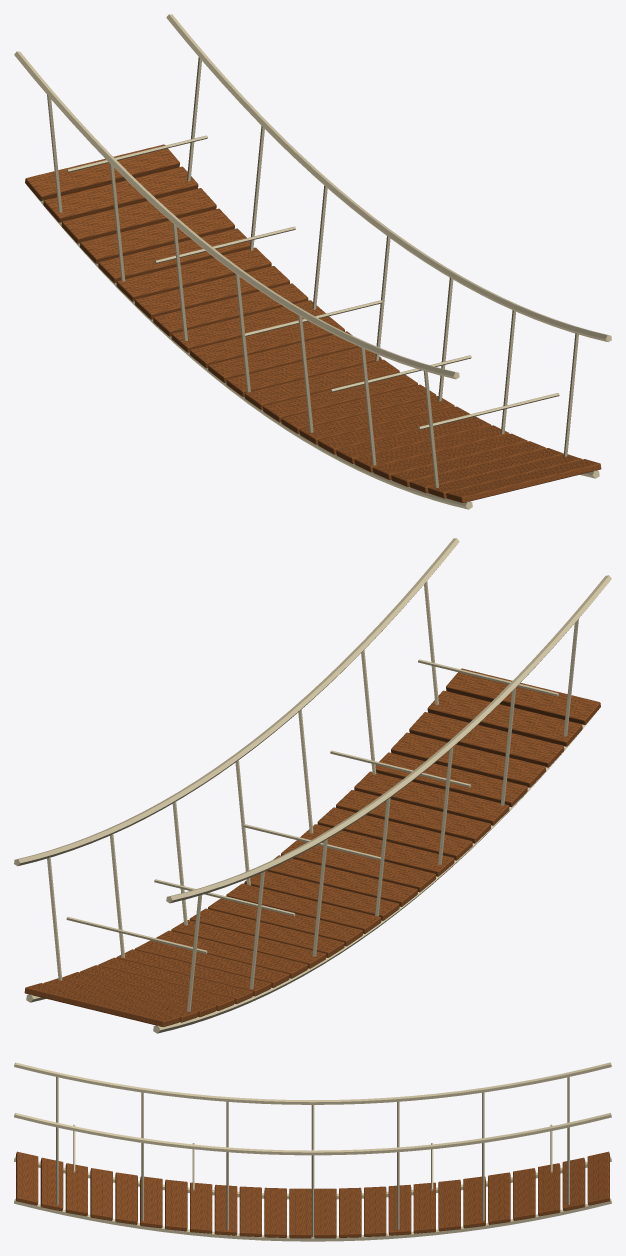
The model's file is jungle-temple-and-stone-city-rope-bridge-span-c661f49f__36152.glb.
3 views of the same model, one above another, from view 1: azimuth 30°, elevation 25°; view 2: azimuth 150°, elevation 25°; view 3: azimuth 270°, elevation 25° (orthographic). The views are drawn at different scales.
Parts seen in each view (by area): view 1: rope-bridge-span; view 2: rope-bridge-span; view 3: rope-bridge-span.
Boxes of the visible parts, <box> form: rope-bridge-span: <box>14,14,611,509</box>; rope-bridge-span: <box>14,538,611,1033</box>; rope-bridge-span: <box>14,1062,611,1241</box>.
Size of the model in its own units: 1.25 by 1.47 by 6.01.
2 materials, 1 textured.
